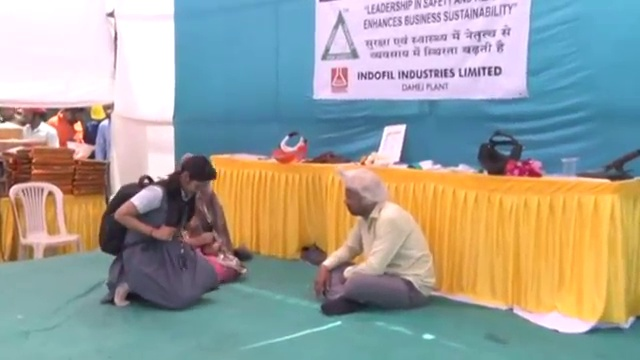helmet: (66, 141, 94, 161), (89, 106, 107, 120)
helmet_off: (333, 169, 388, 227), (174, 156, 217, 201), (62, 107, 85, 127), (23, 108, 44, 127), (1, 105, 18, 124), (102, 102, 114, 120)
person: (95, 158, 234, 313), (308, 169, 440, 313), (180, 188, 249, 288), (17, 105, 55, 147), (48, 106, 85, 148), (95, 102, 114, 161)
